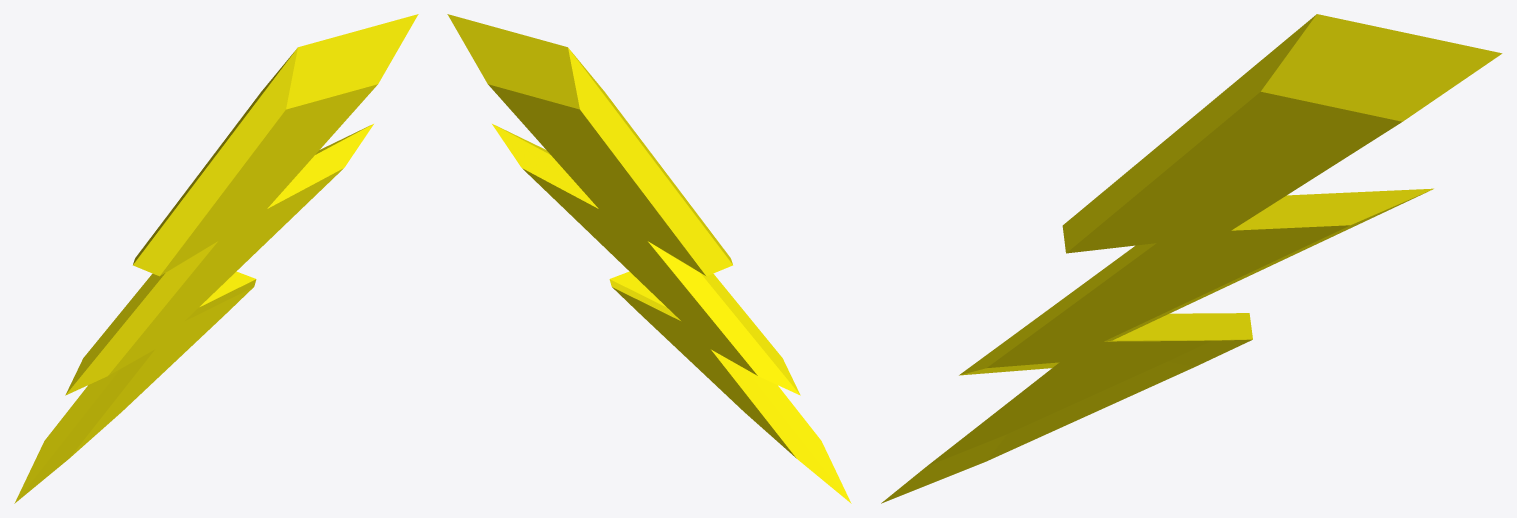
The model's file is lightning.fbx.
3 renders of one model, left to right at view 1: azimuth 30°, elevation 25°; view 2: azimuth 150°, elevation 25°; view 3: azimuth 330°, elevation 25°, orthographic. The views are drawn at different scales.
Parts seen in each view (by area): view 1: Cube.002; view 2: Cube.002; view 3: Cube.002.
Part boxes in pixels (left/top/right/bottom): Cube.002: left=14, top=14, right=418, bottom=503; Cube.002: left=447, top=14, right=851, bottom=503; Cube.002: left=881, top=14, right=1502, bottom=503.
Size of the model in its own units: 296 by 274 by 31.19.
